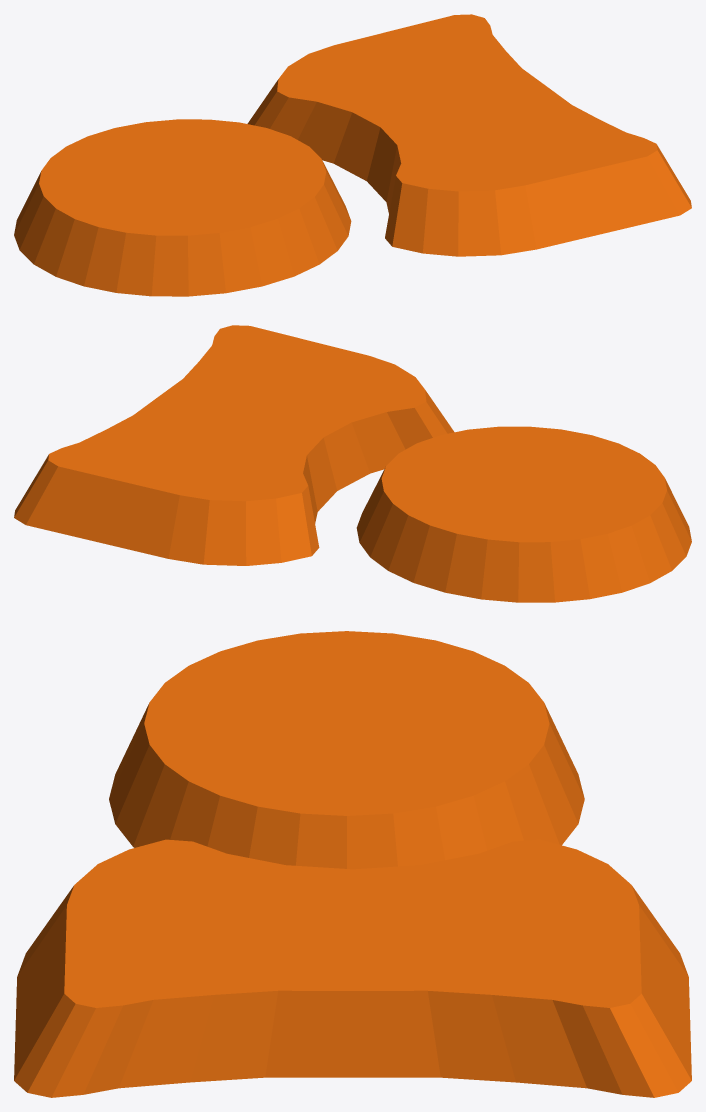
File: Stats.FBX
3 views of the same model, one above another, from view 1: azimuth 30°, elevation 25°; view 2: azimuth 150°, elevation 25°; view 3: azimuth 270°, elevation 25° (orthographic). The views are drawn at different scales.
Visible parts, largest first — view 1: Line001; view 2: Line001; view 3: Line001.
Part boxes in pixels (bbox=[...]): Line001: bbox=[14, 14, 691, 296]; Line001: bbox=[14, 325, 691, 602]; Line001: bbox=[14, 631, 691, 1097].
Bounding box in the file's own units: 6.34 × 0.5498 × 4.46.
